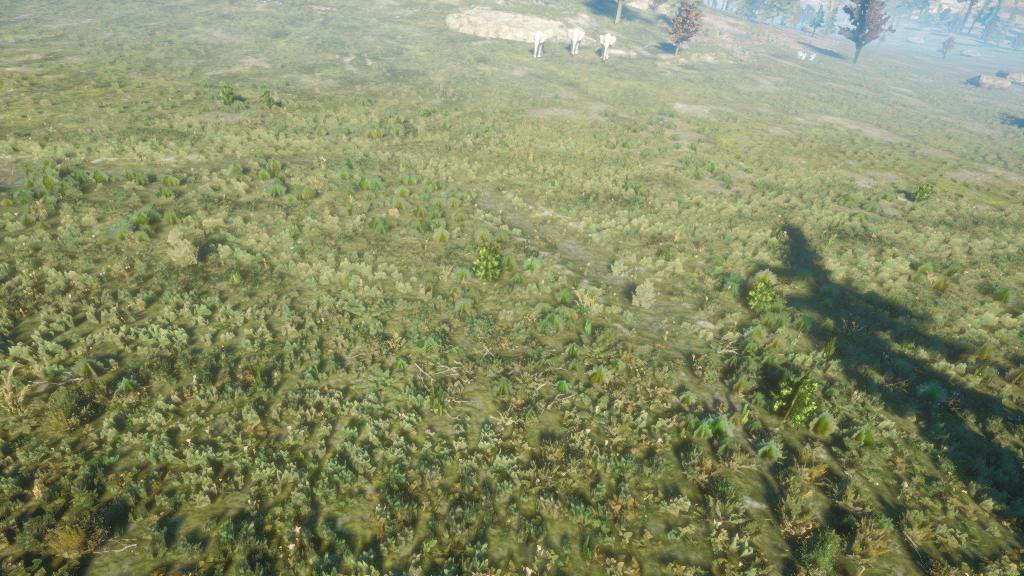elephant: (561, 21, 591, 66), (594, 27, 624, 65), (529, 24, 552, 63)
